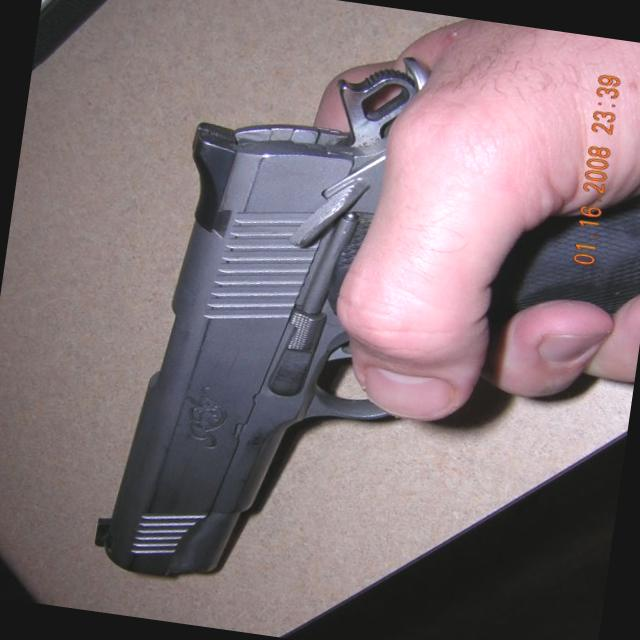handgun: (79, 7, 639, 639)
